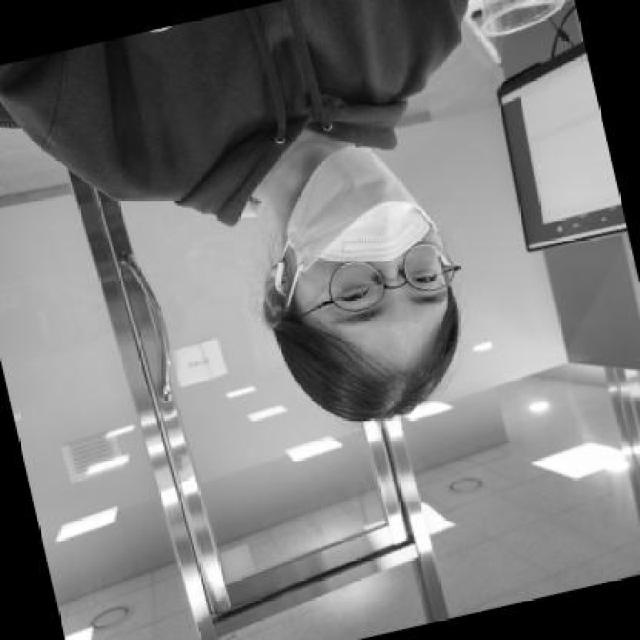earphone: (265, 230, 304, 308)
